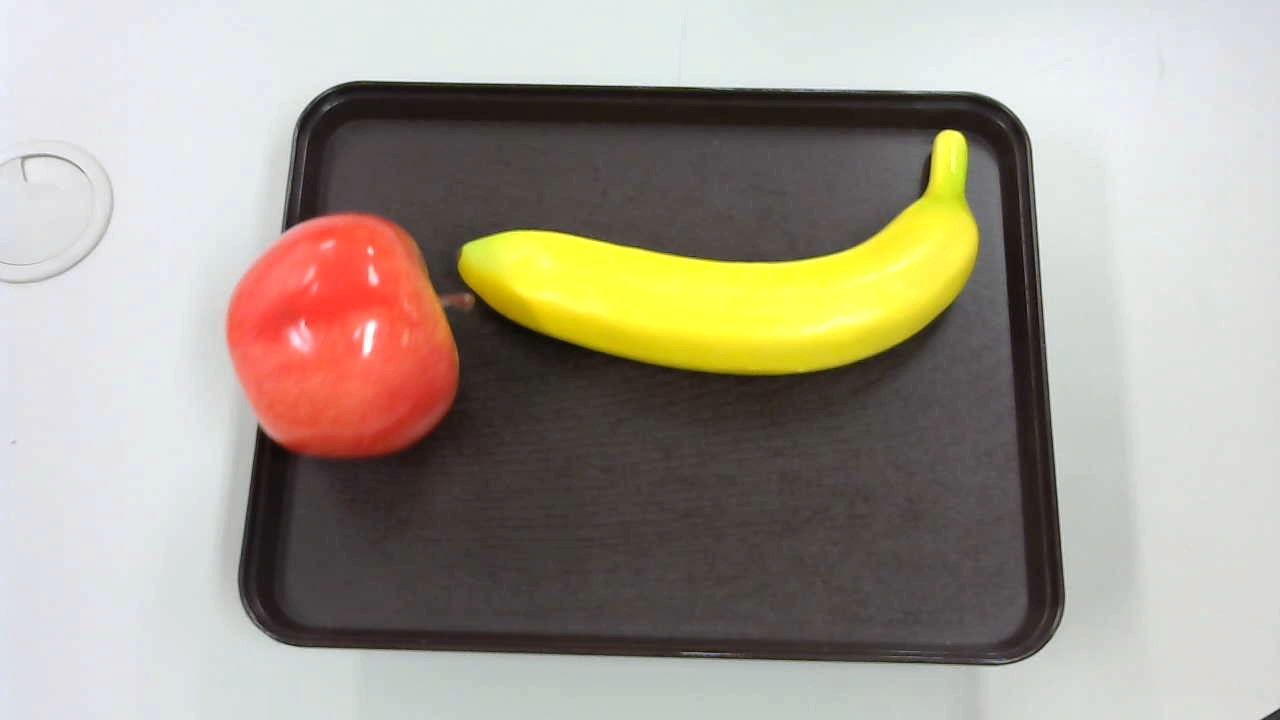banana: (457, 130, 985, 381)
red apple: (222, 205, 483, 471)
